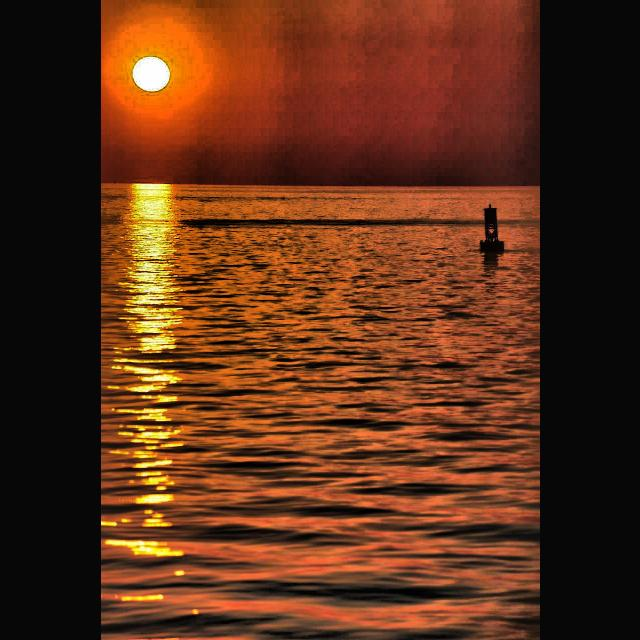buoy: (479, 204, 503, 258)
